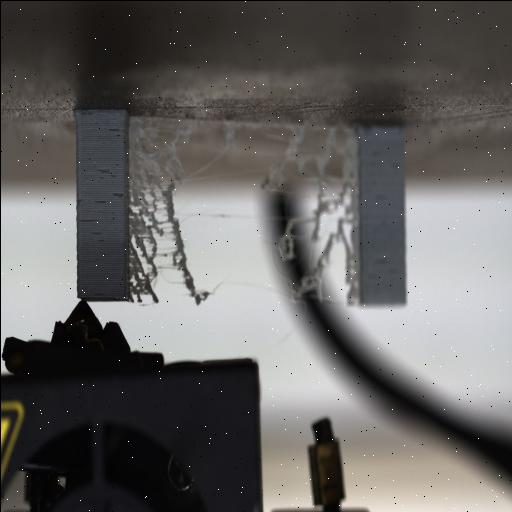stringing: (127, 119, 264, 309), (270, 119, 362, 307)
